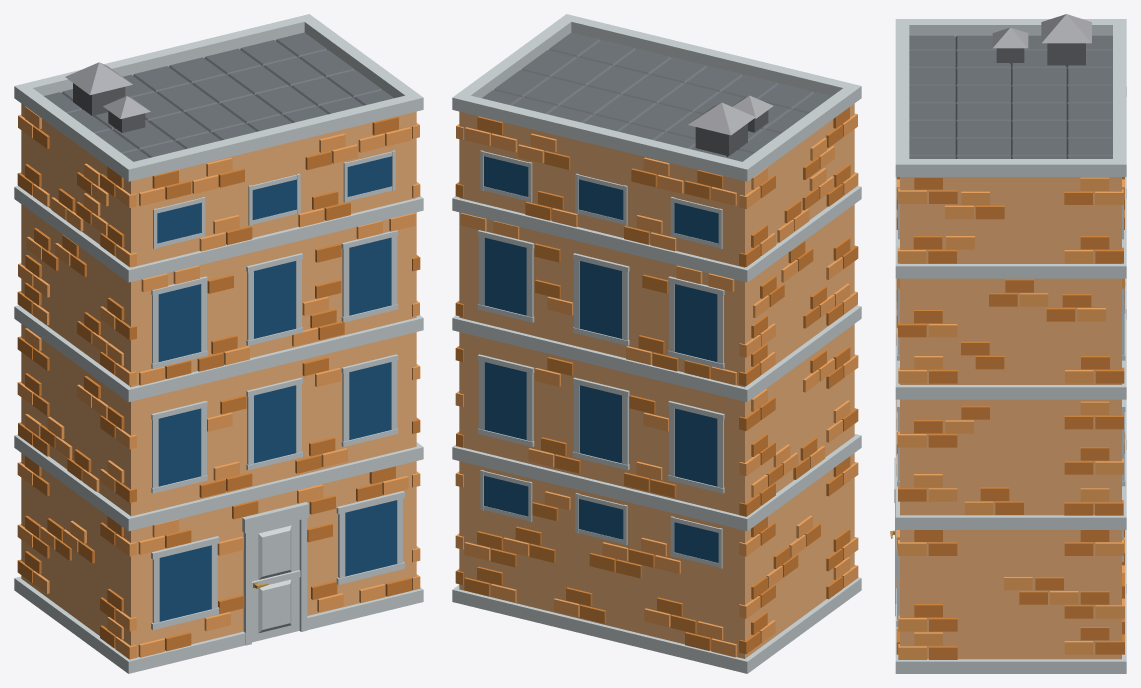
Rendered from SM_House_14_A.FBX.
3 renders of one model, left to right at view 1: azimuth 30°, elevation 25°; view 2: azimuth 150°, elevation 25°; view 3: azimuth 270°, elevation 25°, orthographic.
Parts seen in each view (by area): view 1: SM_House_14_A; view 2: SM_House_14_A; view 3: SM_House_14_A.
Part boxes in pixels (x1=…): SM_House_14_A: x1=14, y1=14, x2=423, y2=673; SM_House_14_A: x1=452, y1=14, x2=861, y2=673; SM_House_14_A: x1=890, y1=14, x2=1126, y2=673.
Size of what is drawn, in the model's own units: 620 by 425 by 1077.
